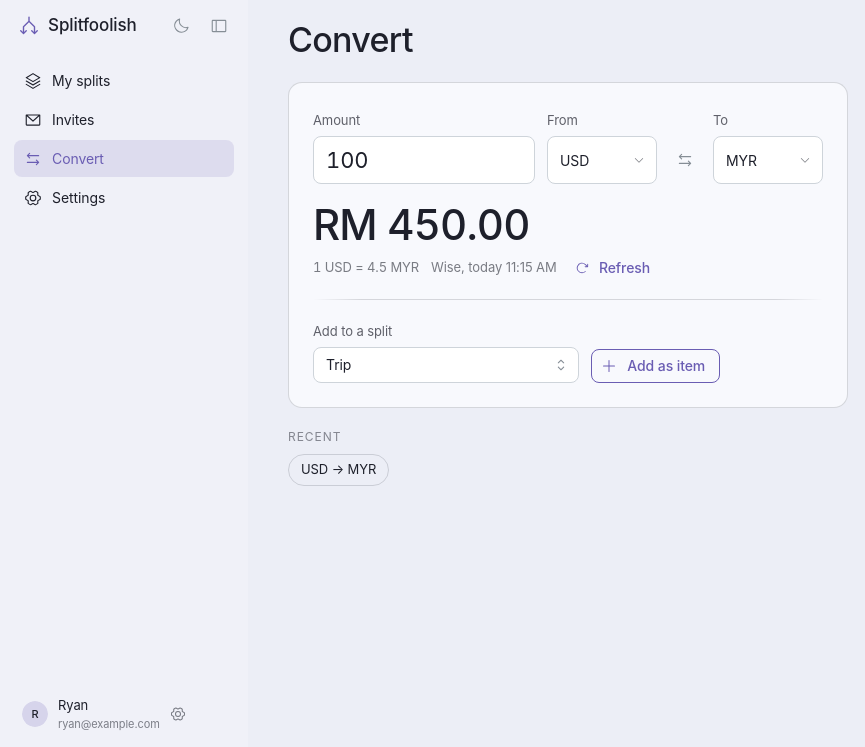
Convert › clicking the amount on a computer selects it, so typing replaces it; a second click places the cursor
This screenshot has width=865, height=747.
Click the field labelled "Amount" at (424, 160), box top-left (313, 136), bottom-right (535, 184)
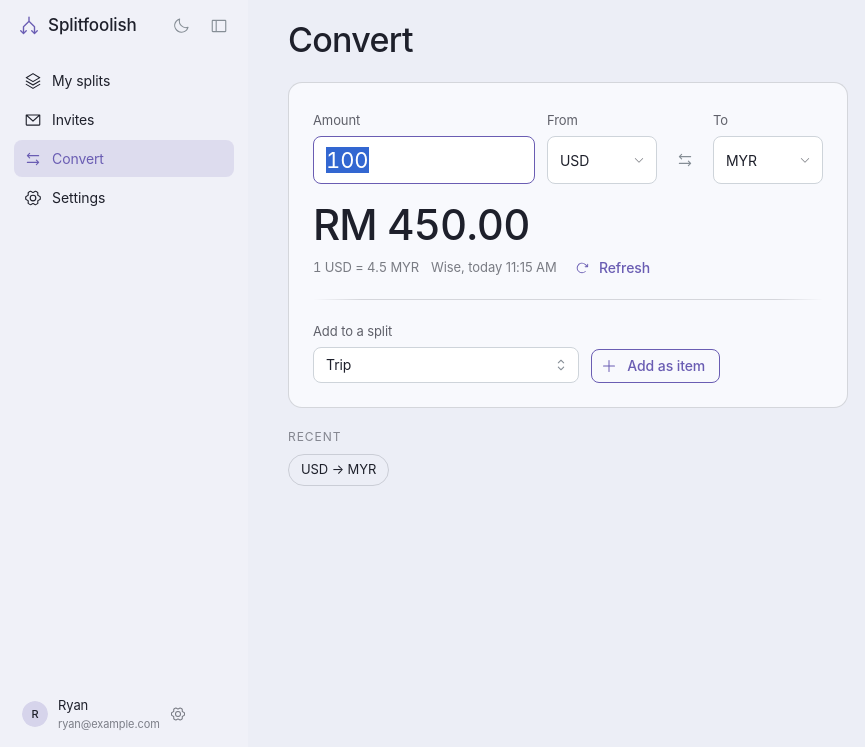
Type keys "20"
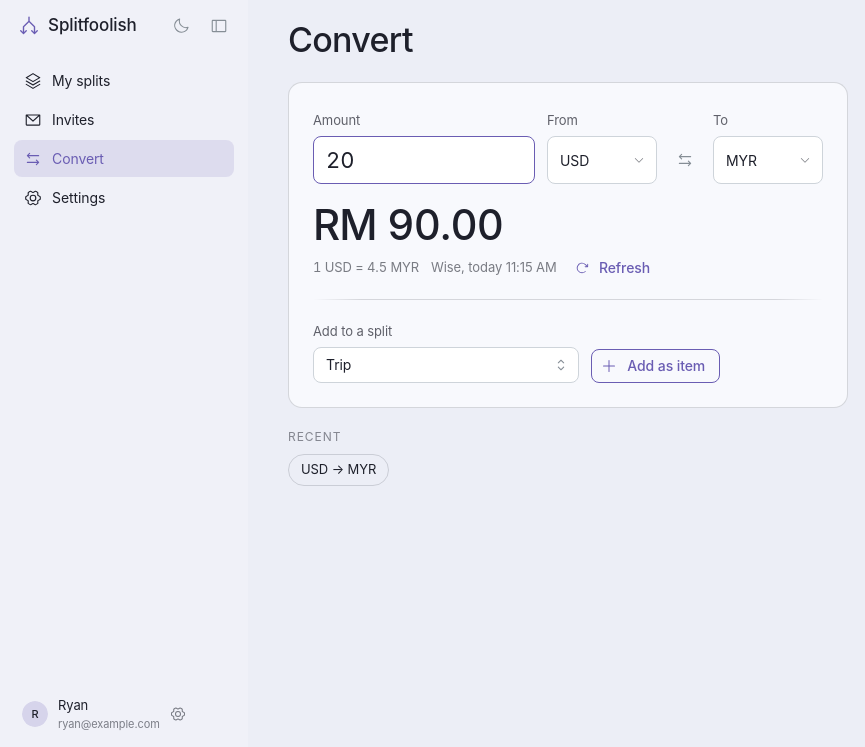
Expected: the field labelled "Amount" holds "20", top-left (313, 136), bottom-right (535, 184)
